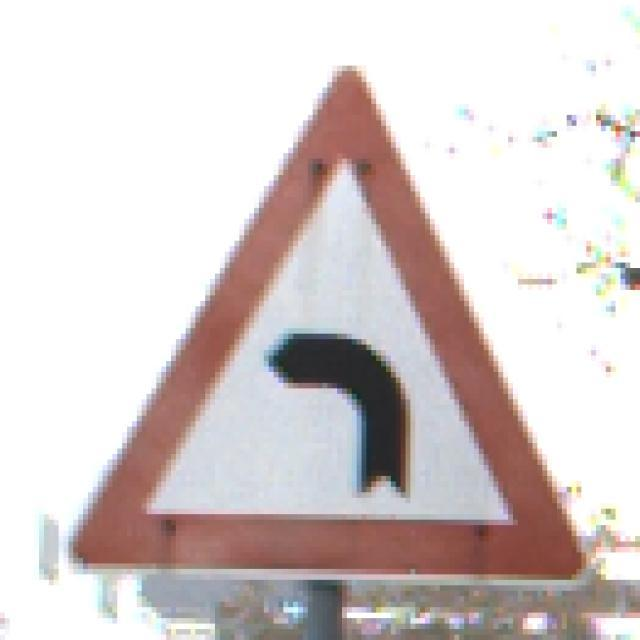left hand curve: (50, 46, 598, 600)
